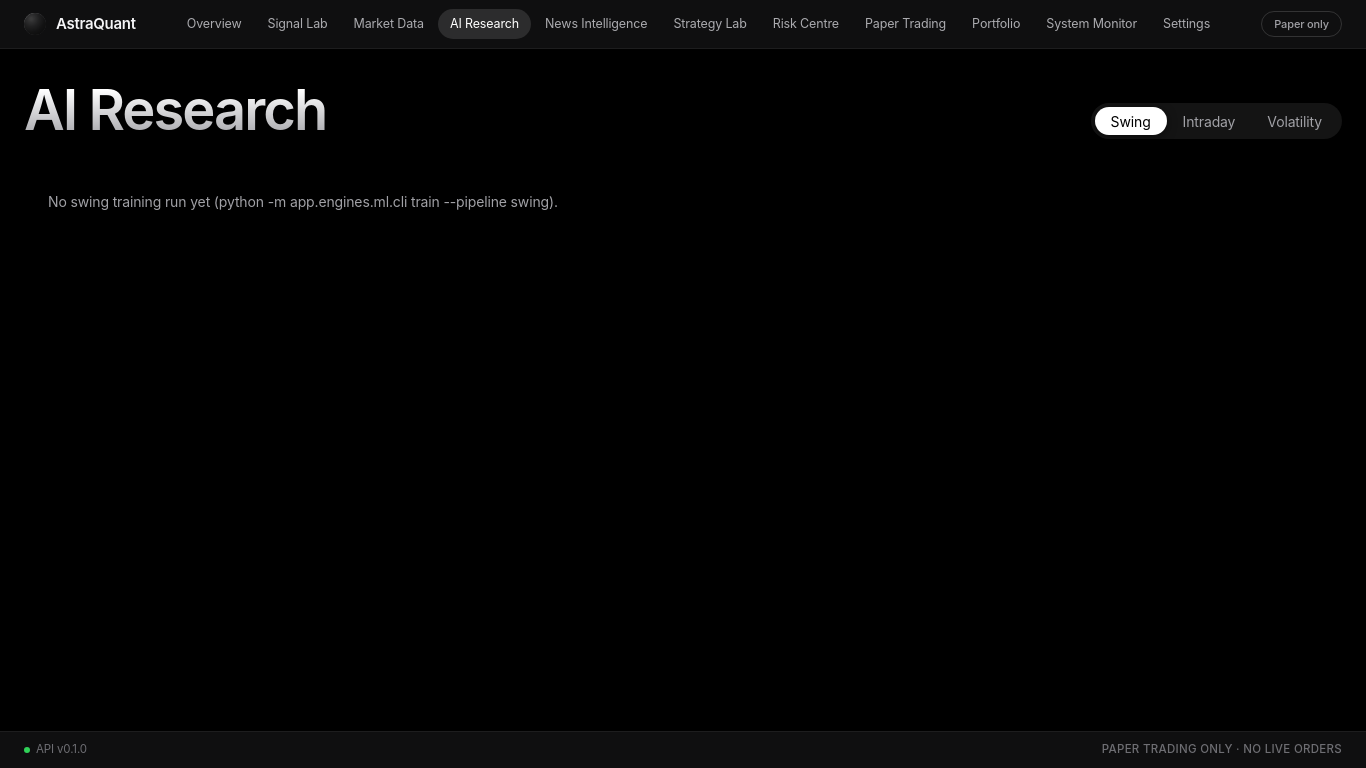
Test case: AI Research › empty state when no run exists for the pipeline
The width and height of the screenshot is (1366, 768).
Click the tab "Intraday" at (1209, 121), box [1167,107,1251,135]
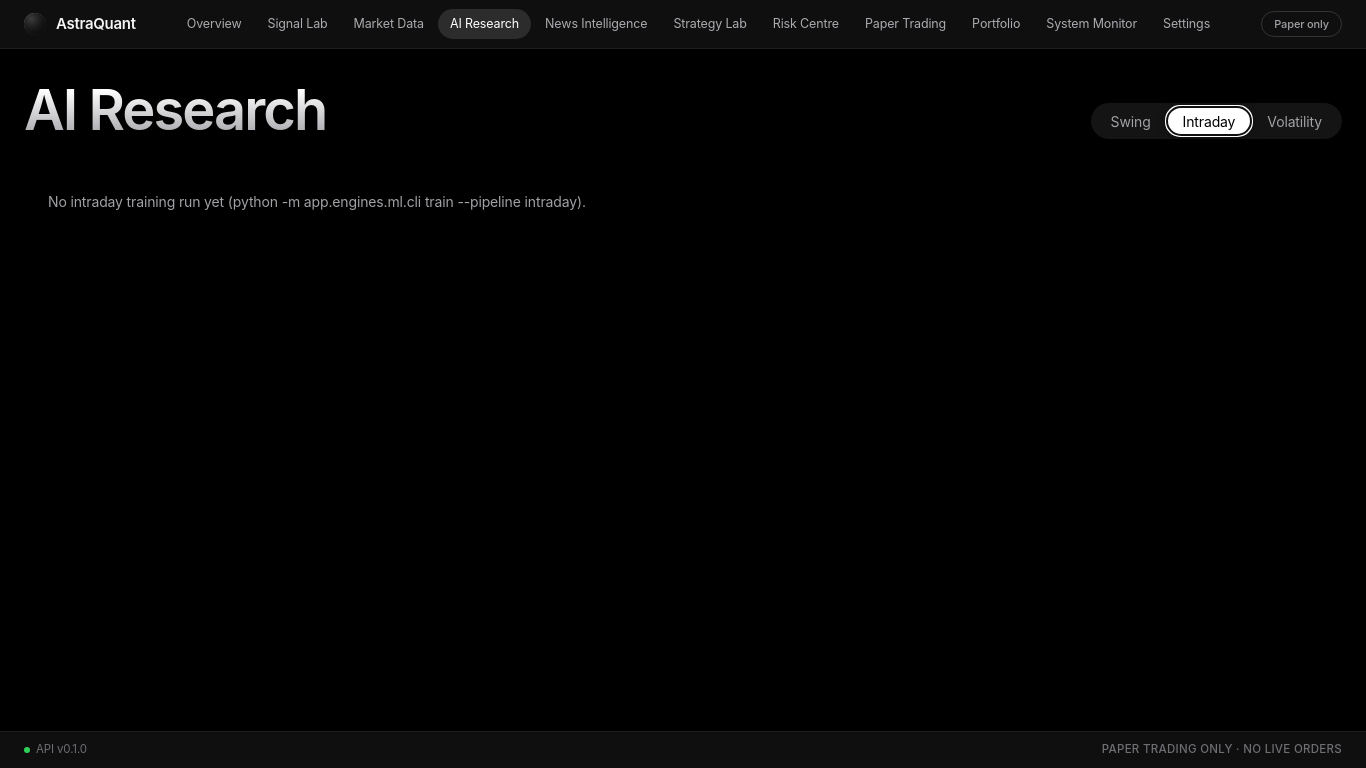
Result: the text "No intraday training run yet" is shown at [48,193,586,210]
